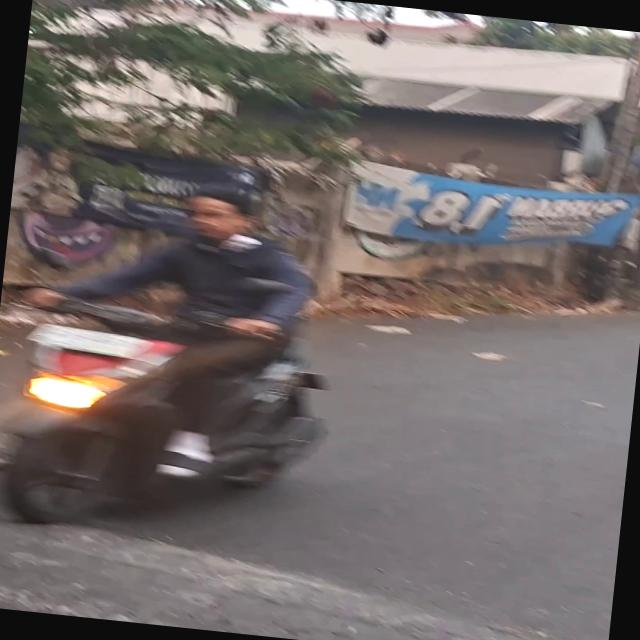WithoutHelmet: (0, 171, 329, 562)
